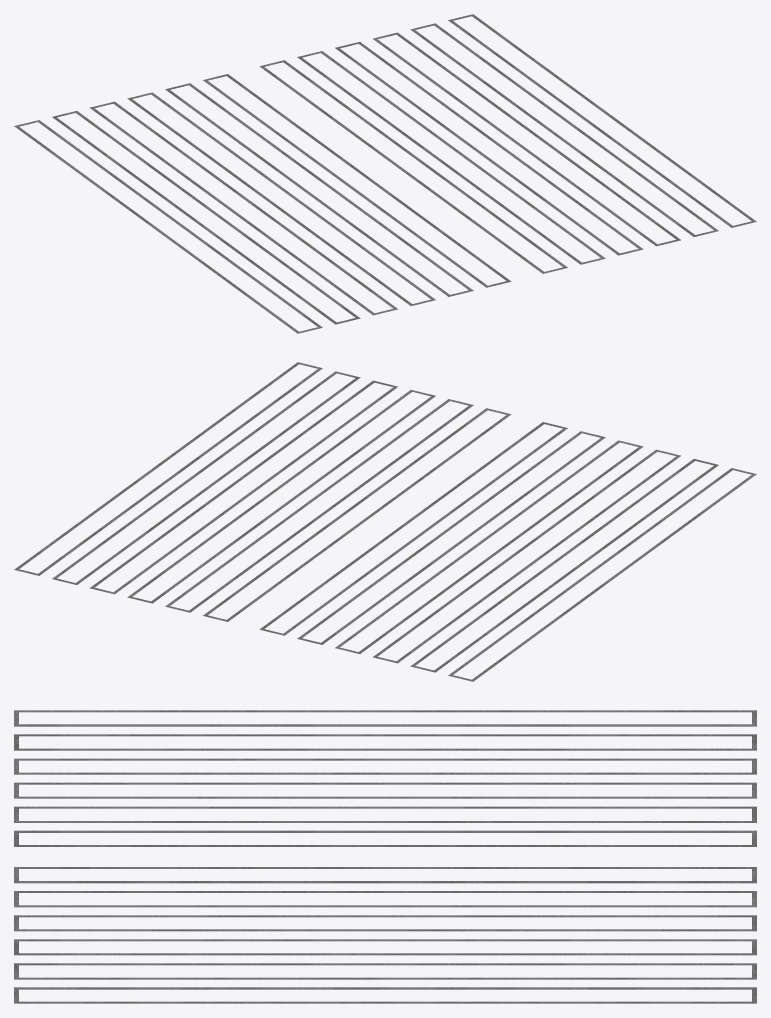
File: threshold_6-border.gltf
3 views of the same model, one above another, from view 1: azimuth 30°, elevation 25°; view 2: azimuth 150°, elevation 25°; view 3: azimuth 270°, elevation 25° (orthographic). The views are drawn at different scales.
Visible parts, largest first — view 1: threshold_6-border; view 2: threshold_6-border; view 3: threshold_6-border.
Boxes of the visible parts, <box> form: threshold_6-border: <box>14,14,756,333</box>; threshold_6-border: <box>14,362,756,681</box>; threshold_6-border: <box>14,710,756,1003</box>.
Size of the model in its own units: 42.6 by 0 by 45.6.
